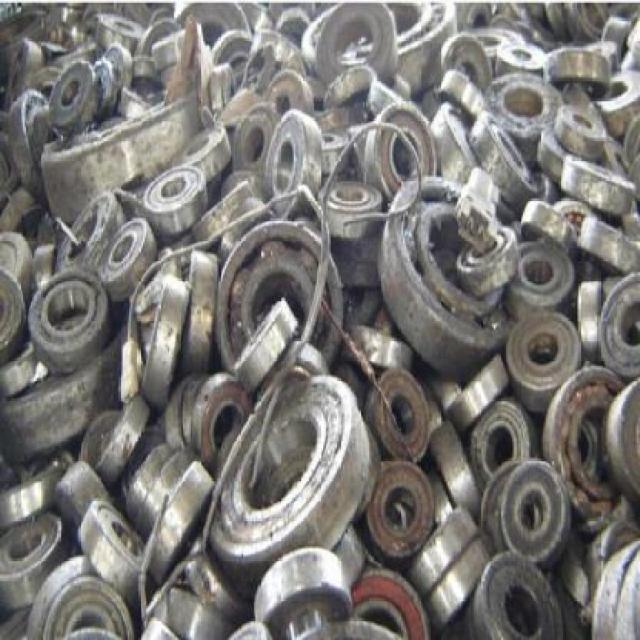Bearing: (494, 455, 576, 563), (33, 274, 111, 369), (78, 503, 158, 591), (264, 112, 325, 222), (507, 308, 577, 403), (471, 112, 544, 200), (0, 526, 70, 614), (188, 375, 253, 454), (596, 268, 640, 384), (445, 357, 511, 434), (323, 174, 387, 241), (142, 168, 208, 232), (105, 228, 164, 289)
